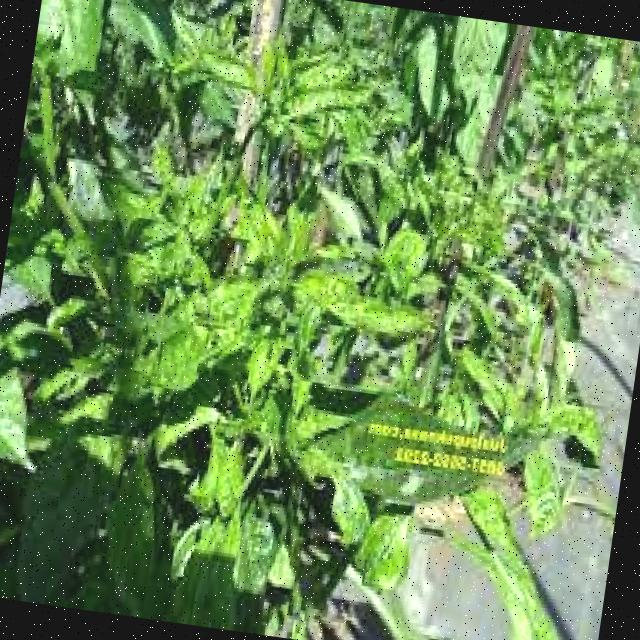leaf curl: (38, 120, 479, 412), (10, 413, 393, 640)
